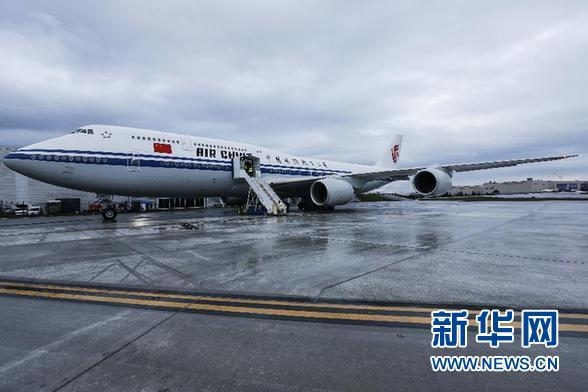airplane: (1, 122, 578, 216)
